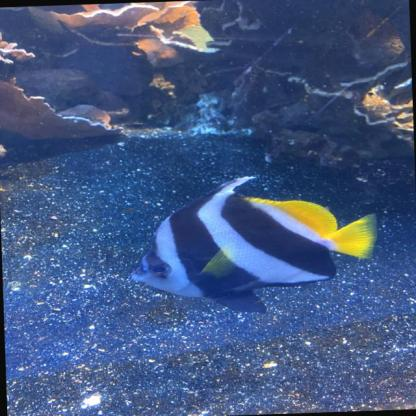fish: (127, 172, 378, 316)
